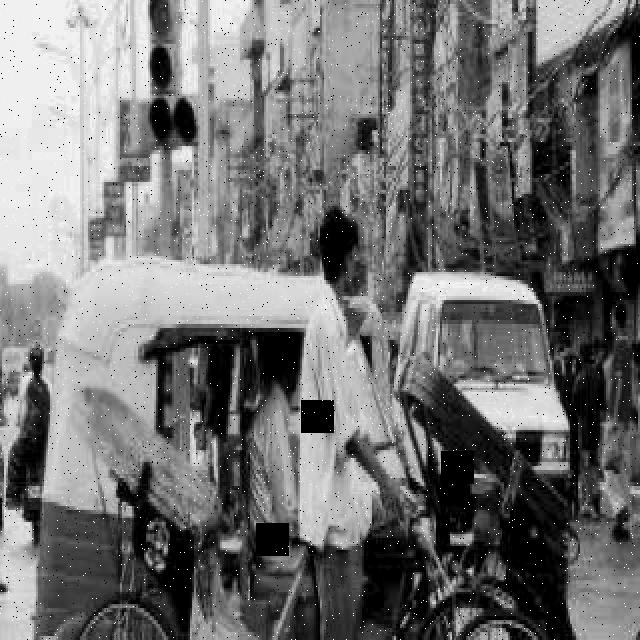Auto-Rickshaw: (40, 254, 442, 634)
